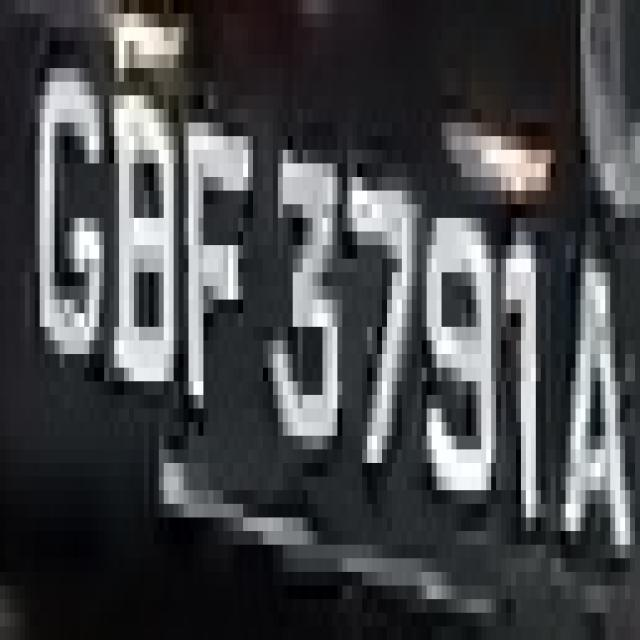1: (486, 191, 551, 558)
3: (273, 123, 342, 463)
7: (347, 109, 417, 490)
9: (422, 150, 501, 517)
A: (551, 218, 630, 599)
B: (109, 82, 179, 422)
F: (174, 82, 258, 422)
G: (30, 27, 114, 368)
